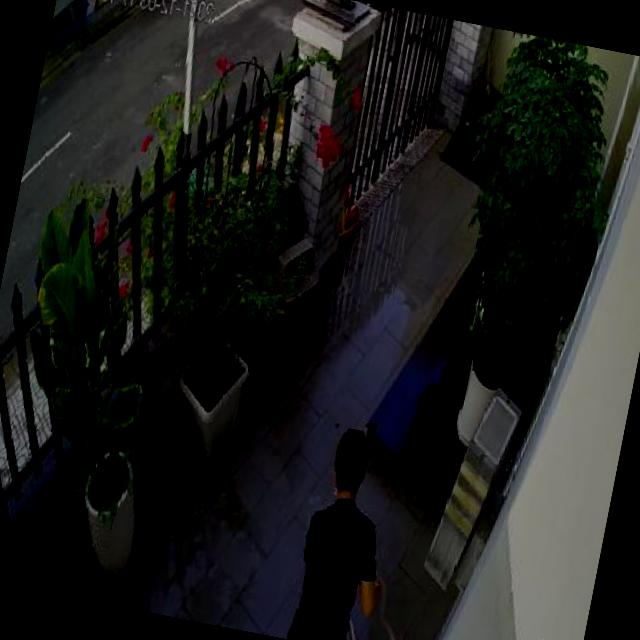Person: (284, 419, 408, 640)
